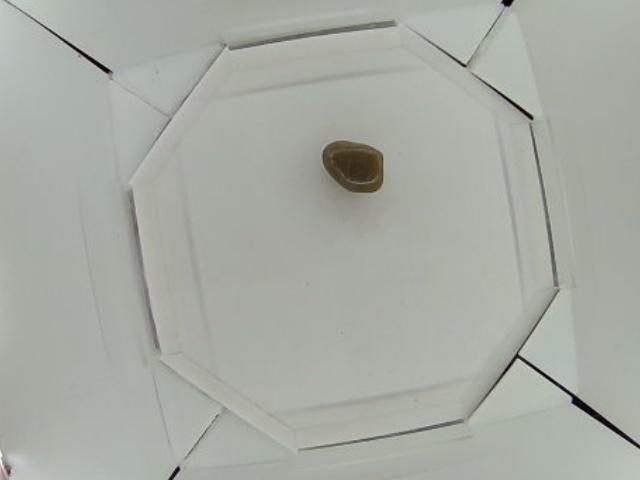Pebble: (322, 137, 383, 191)
